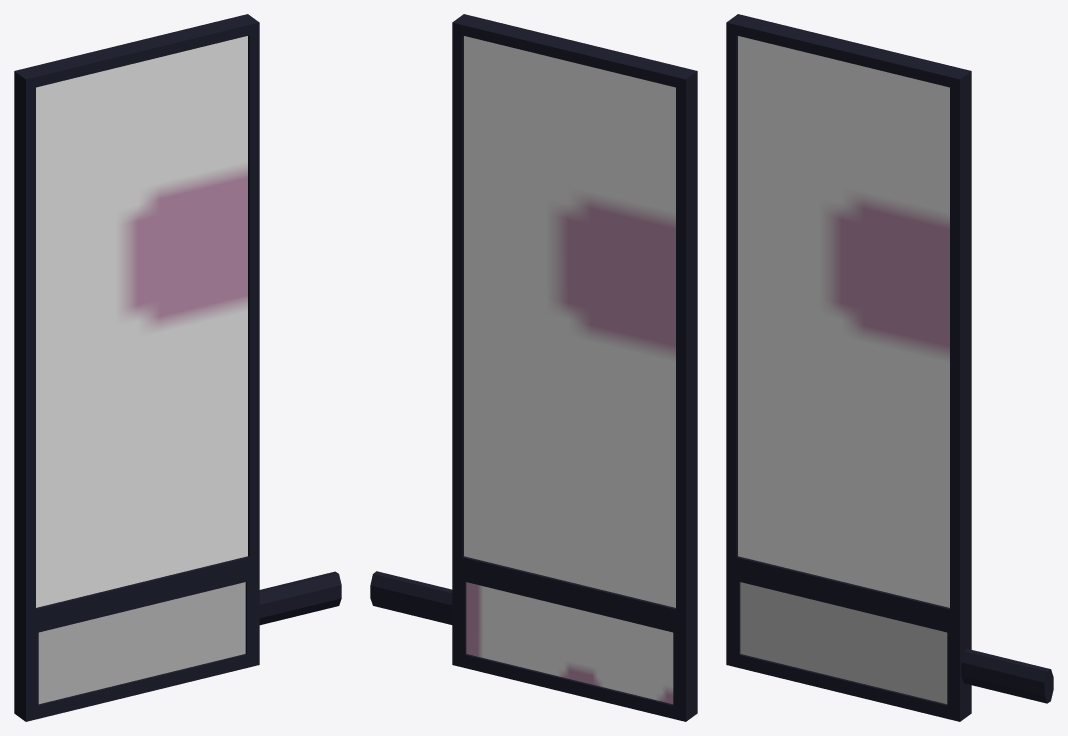
File: Sign_StreetPrawnshop.fbx
3 renders of one model, left to right at view 1: azimuth 30°, elevation 25°; view 2: azimuth 150°, elevation 25°; view 3: azimuth 330°, elevation 25°, orthographic.
Visible parts, largest first — view 1: Cube.586; view 2: Cube.586; view 3: Cube.586.
Part boxes in pixels (<box>): Cube.586: <box>14,14,341,721</box>; Cube.586: <box>370,14,697,721</box>; Cube.586: <box>726,14,1053,721</box>.
Bounding box in the file's own units: 94.34 × 183 × 6.01.
